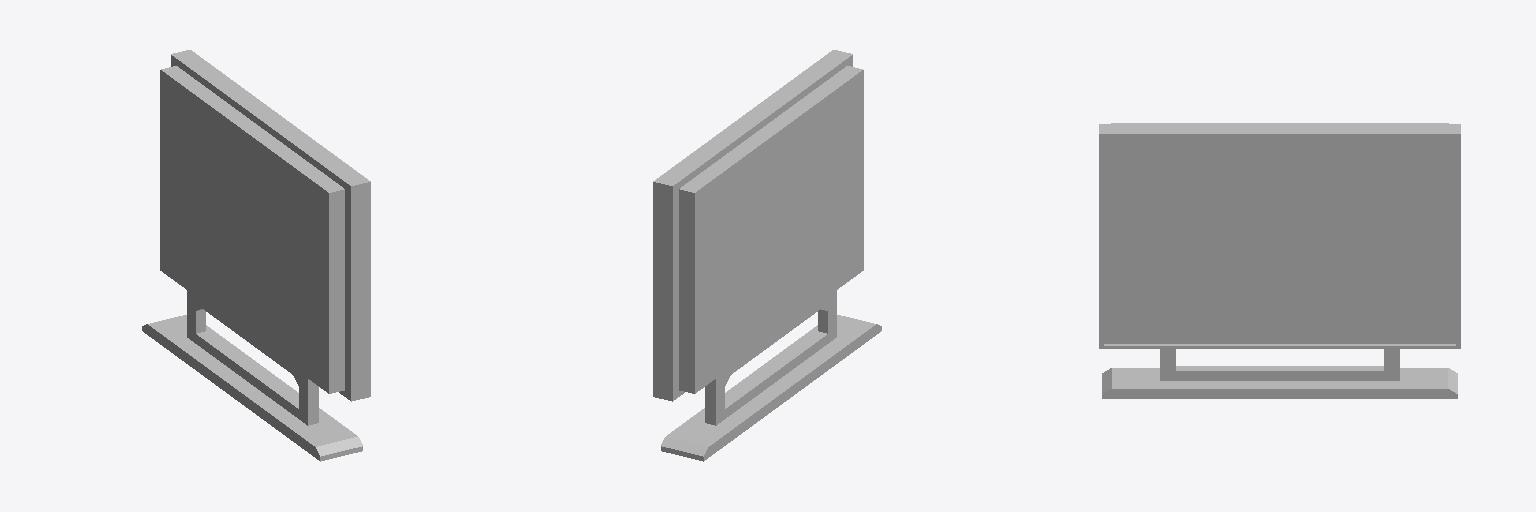
File: Monitor.obj
The picture shows the model from 3 angles: view 1: azimuth 30°, elevation 25°; view 2: azimuth 150°, elevation 25°; view 3: azimuth 270°, elevation 25°; orthographic projection.
Parts seen in each view (by area): view 1: Monitor_1_Cube.004, Monitor_3_Cube.009; view 2: Monitor_1_Cube.004, Monitor_3_Cube.009; view 3: Monitor_2_Cube.008, Monitor_1_Cube.004, Monitor_3_Cube.009.
Boxes of the visible parts, x1=… form: Monitor_1_Cube.004: x1=142, y1=66, x2=362, y2=461; Monitor_3_Cube.009: x1=171, y1=50, x2=370, y2=401; Monitor_1_Cube.004: x1=661, y1=66, x2=881, y2=461; Monitor_3_Cube.009: x1=653, y1=50, x2=852, y2=401; Monitor_2_Cube.008: x1=1104, y1=137, x2=1455, y2=343; Monitor_1_Cube.004: x1=1102, y1=123, x2=1457, y2=398; Monitor_3_Cube.009: x1=1099, y1=124, x2=1460, y2=348.
Size of the model in its own units: 0.3542 by 1.85 by 2.25.